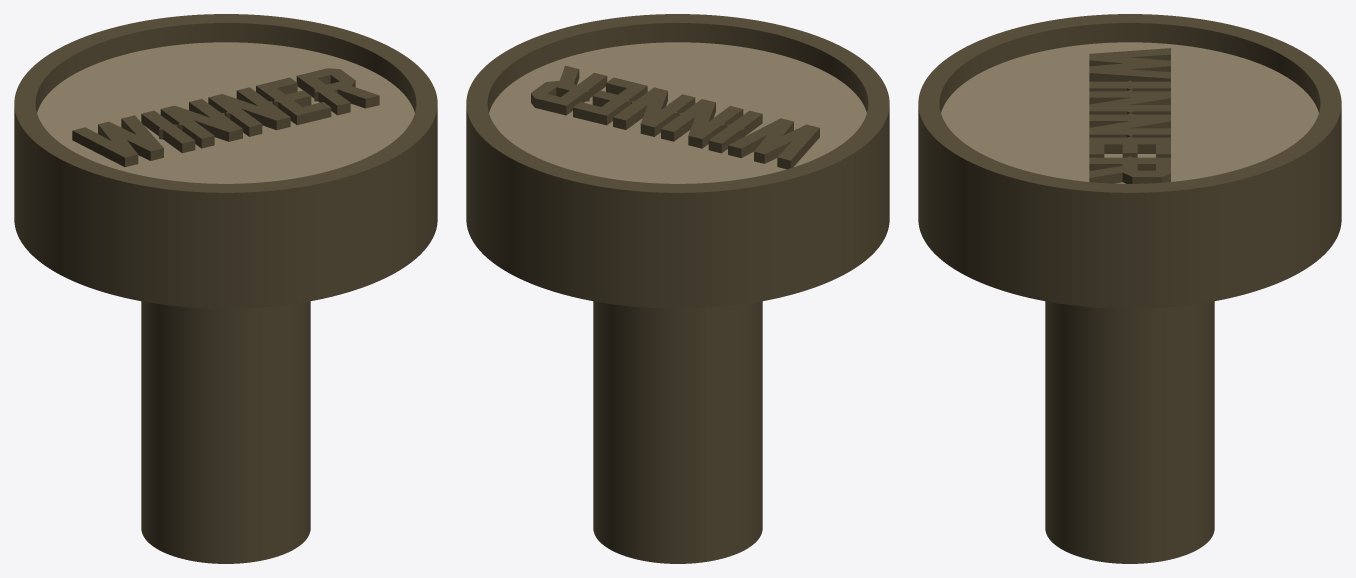
Rendered from WinnerButton.fbx.
3 views of the same model, side by side, from view 1: azimuth 30°, elevation 25°; view 2: azimuth 150°, elevation 25°; view 3: azimuth 270°, elevation 25° (orthographic).
Visible parts, largest first — view 1: Cylinder, Cylinder.002, Circle, Text.003; view 2: Cylinder, Cylinder.002, Circle, Text.003; view 3: Cylinder, Cylinder.002, Circle, Text.003.
Part boxes in pixels (x1,y1,x2,y2): Cylinder: (14, 14, 437, 308); Cylinder.002: (141, 301, 310, 563); Circle: (37, 42, 414, 183); Text.003: (72, 68, 379, 167); Cylinder: (466, 14, 889, 308); Cylinder.002: (593, 301, 762, 563); Circle: (489, 42, 866, 183); Text.003: (531, 65, 819, 169); Cylinder: (918, 14, 1341, 308); Cylinder.002: (1045, 301, 1214, 563); Circle: (941, 42, 1318, 183); Text.003: (1089, 48, 1170, 183).
Bounding box in the file's own units: 199 × 220 × 199.
